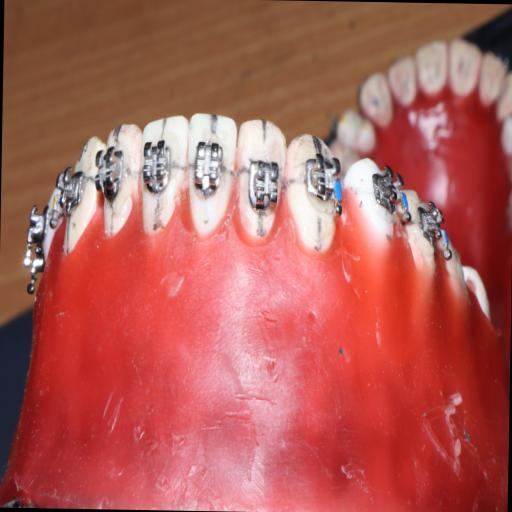correct_brace: (190, 134, 228, 203)
incorrect_brace: (234, 110, 289, 246), (242, 148, 284, 219)
